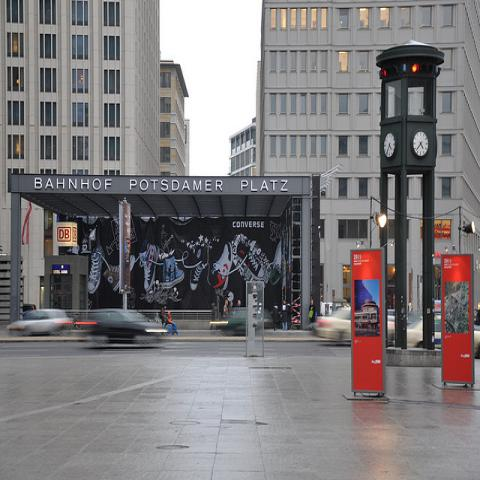car: (406, 313, 480, 359), (315, 307, 395, 346), (76, 309, 168, 335), (8, 312, 72, 335), (223, 306, 248, 337)
